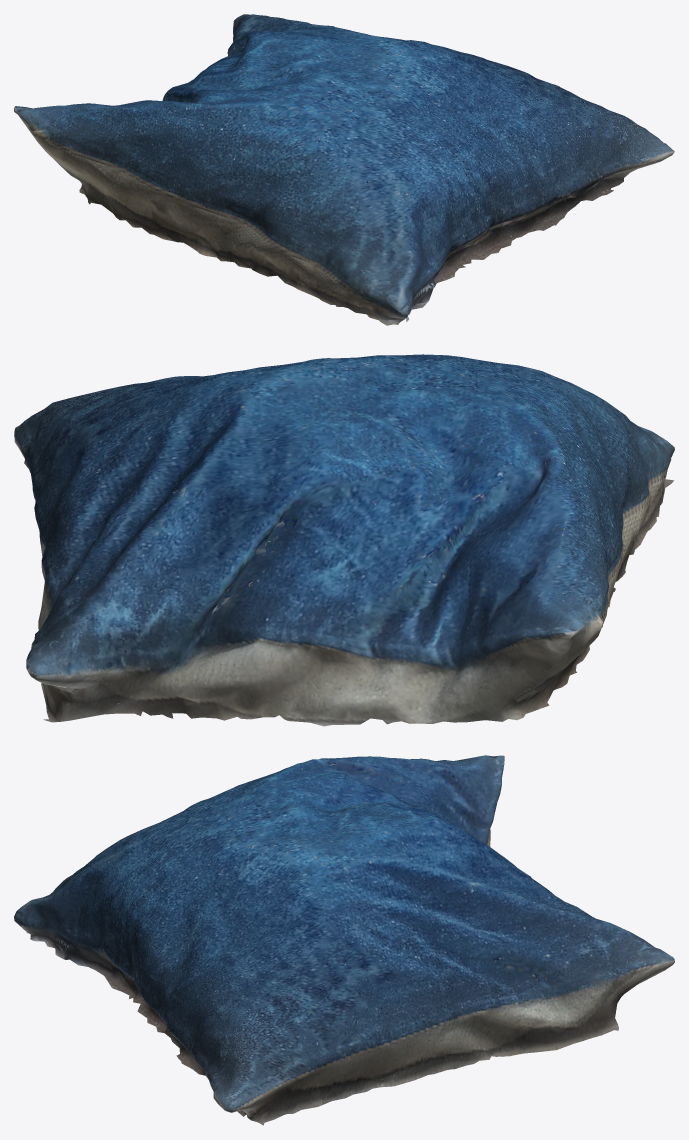
Rendered from pillow_v2.gltf.
3 renders of one model, top to bottom at view 1: azimuth 30°, elevation 25°; view 2: azimuth 150°, elevation 25°; view 3: azimuth 270°, elevation 25°, orthographic. The views are drawn at different scales.
Visible parts, largest first — view 1: Mesh_0; view 2: Mesh_0; view 3: Mesh_0.
Part boxes in pixels (x1=…): Mesh_0: x1=14, y1=14, x2=674, y2=325; Mesh_0: x1=14, y1=354, x2=674, y2=726; Mesh_0: x1=14, y1=755, x2=674, y2=1125.
Size of the model in its own units: 6.96 by 2.01 by 7.1.
Materials: 1 (1 with a texture image).
